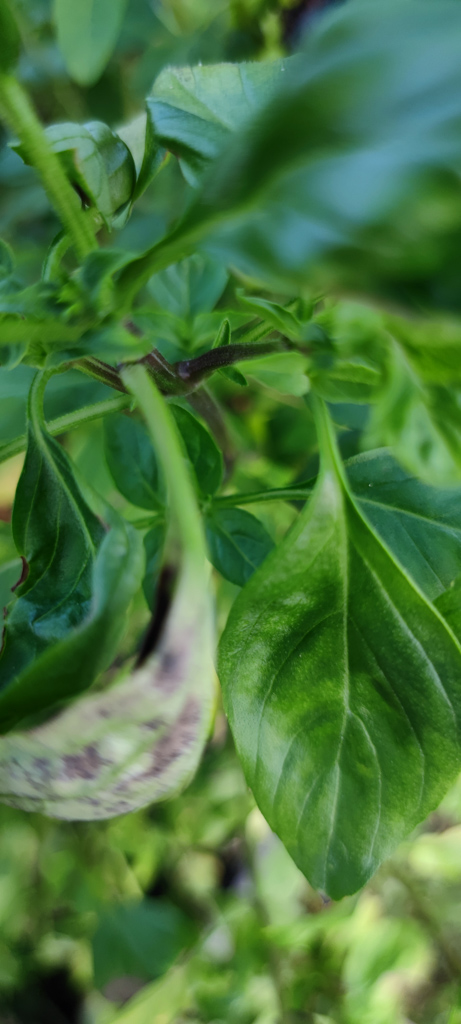Canker: (34, 643, 205, 809)
